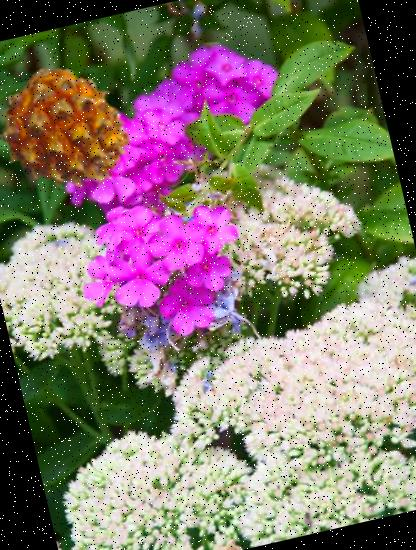Pineapple: (0, 51, 144, 209)
